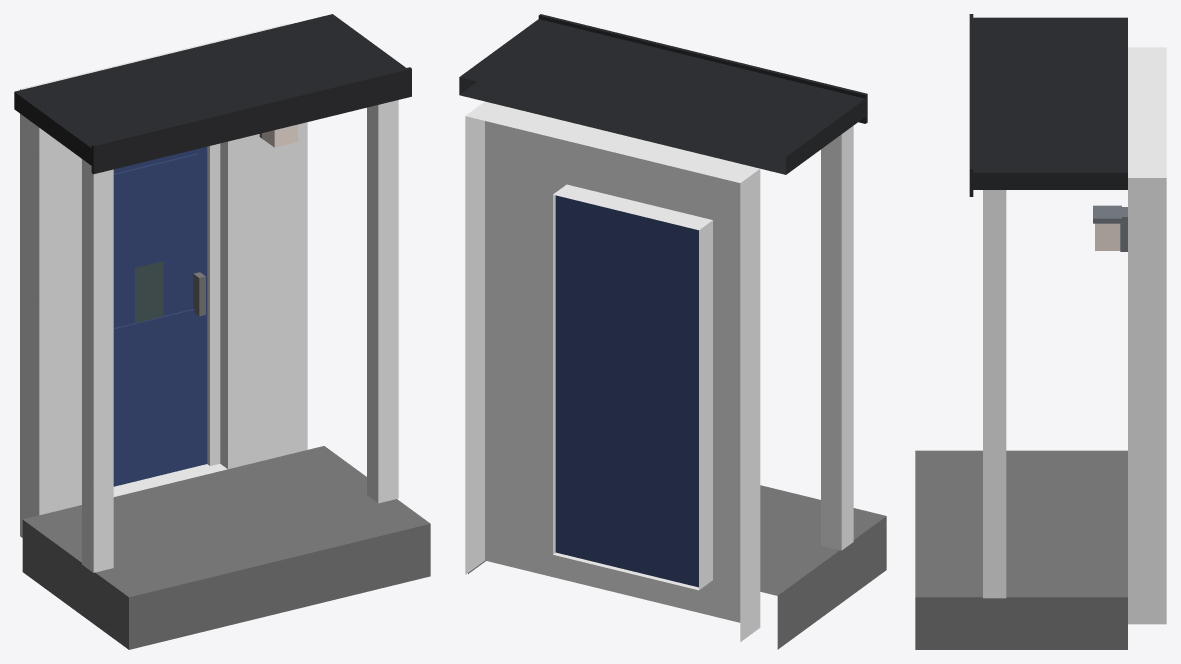
File: entrance_close.fbx
3 views of the same model, side by side, from view 1: azimuth 30°, elevation 25°; view 2: azimuth 150°, elevation 25°; view 3: azimuth 270°, elevation 25° (orthographic). The views are drawn at different scales.
Visible parts, largest first — view 1: a2015/200/entrance_close; view 2: a2015/200/entrance_close; view 3: a2015/200/entrance_close.
Boxes of the visible parts, <box> form: a2015/200/entrance_close: <box>14,14,430,649</box>; a2015/200/entrance_close: <box>459,14,886,649</box>; a2015/200/entrance_close: <box>915,14,1166,649</box>.
Size of the model in its own units: 1.9 by 2.77 by 1.3.
